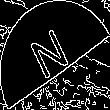N_SE: (31, 23, 79, 87)
